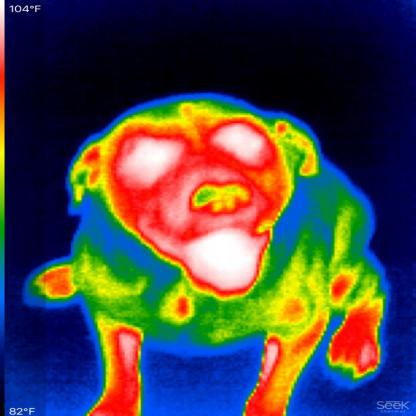dog: (21, 89, 390, 415)
